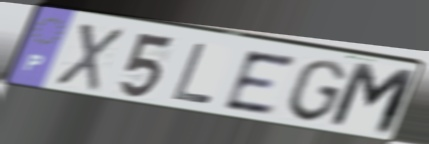5: (116, 29, 180, 99)
E: (221, 48, 299, 116)
G: (283, 58, 350, 125)
L: (168, 41, 216, 107)
M: (324, 59, 422, 139)
X: (52, 20, 126, 94)
